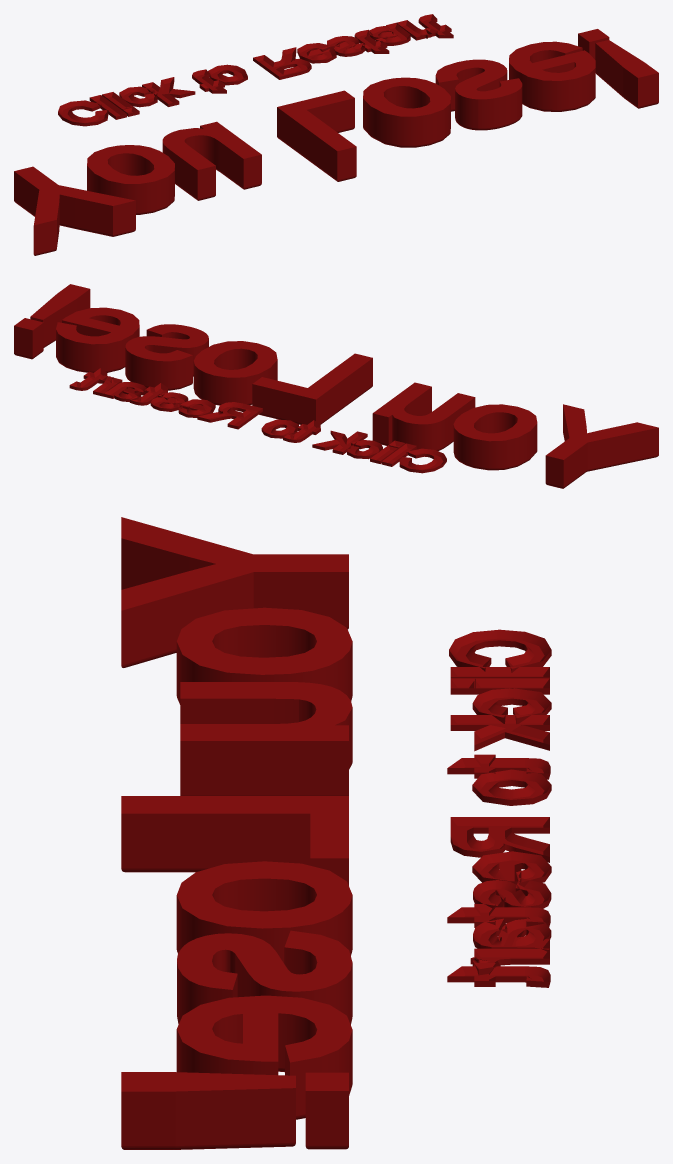
The model's file is lose.obj.
3 views of the same model, one above another, from view 1: azimuth 30°, elevation 25°; view 2: azimuth 150°, elevation 25°; view 3: azimuth 270°, elevation 25° (orthographic). The views are drawn at different scales.
Parts seen in each view (by area): view 1: TextPlus001, TextPlus002; view 2: TextPlus001, TextPlus002; view 3: TextPlus001, TextPlus002.
Boxes of the visible parts, left/top/right/bottom form: TextPlus001: left=14, top=29, right=658, bottom=255; TextPlus002: left=58, top=14, right=453, bottom=126; TextPlus001: left=14, top=284, right=658, bottom=488; TextPlus002: left=69, top=368, right=446, bottom=473; TextPlus001: left=121, top=517, right=352, bottom=1149; TextPlus002: left=447, top=629, right=551, bottom=987.
Bounding box in the file's own units: 102 × 5.5 × 32.16.
